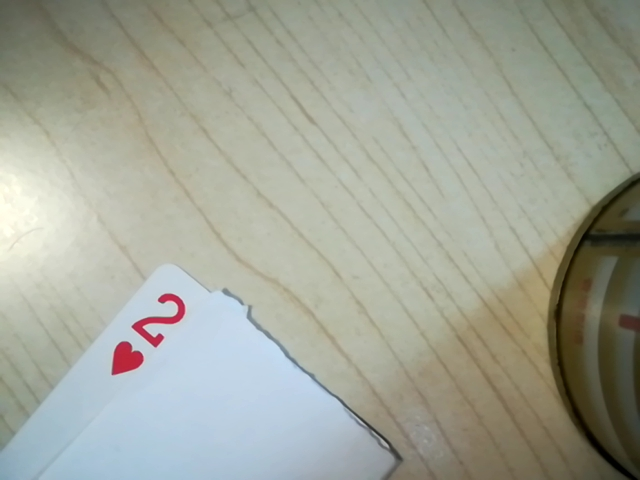hx 2: (100, 288, 197, 377)
